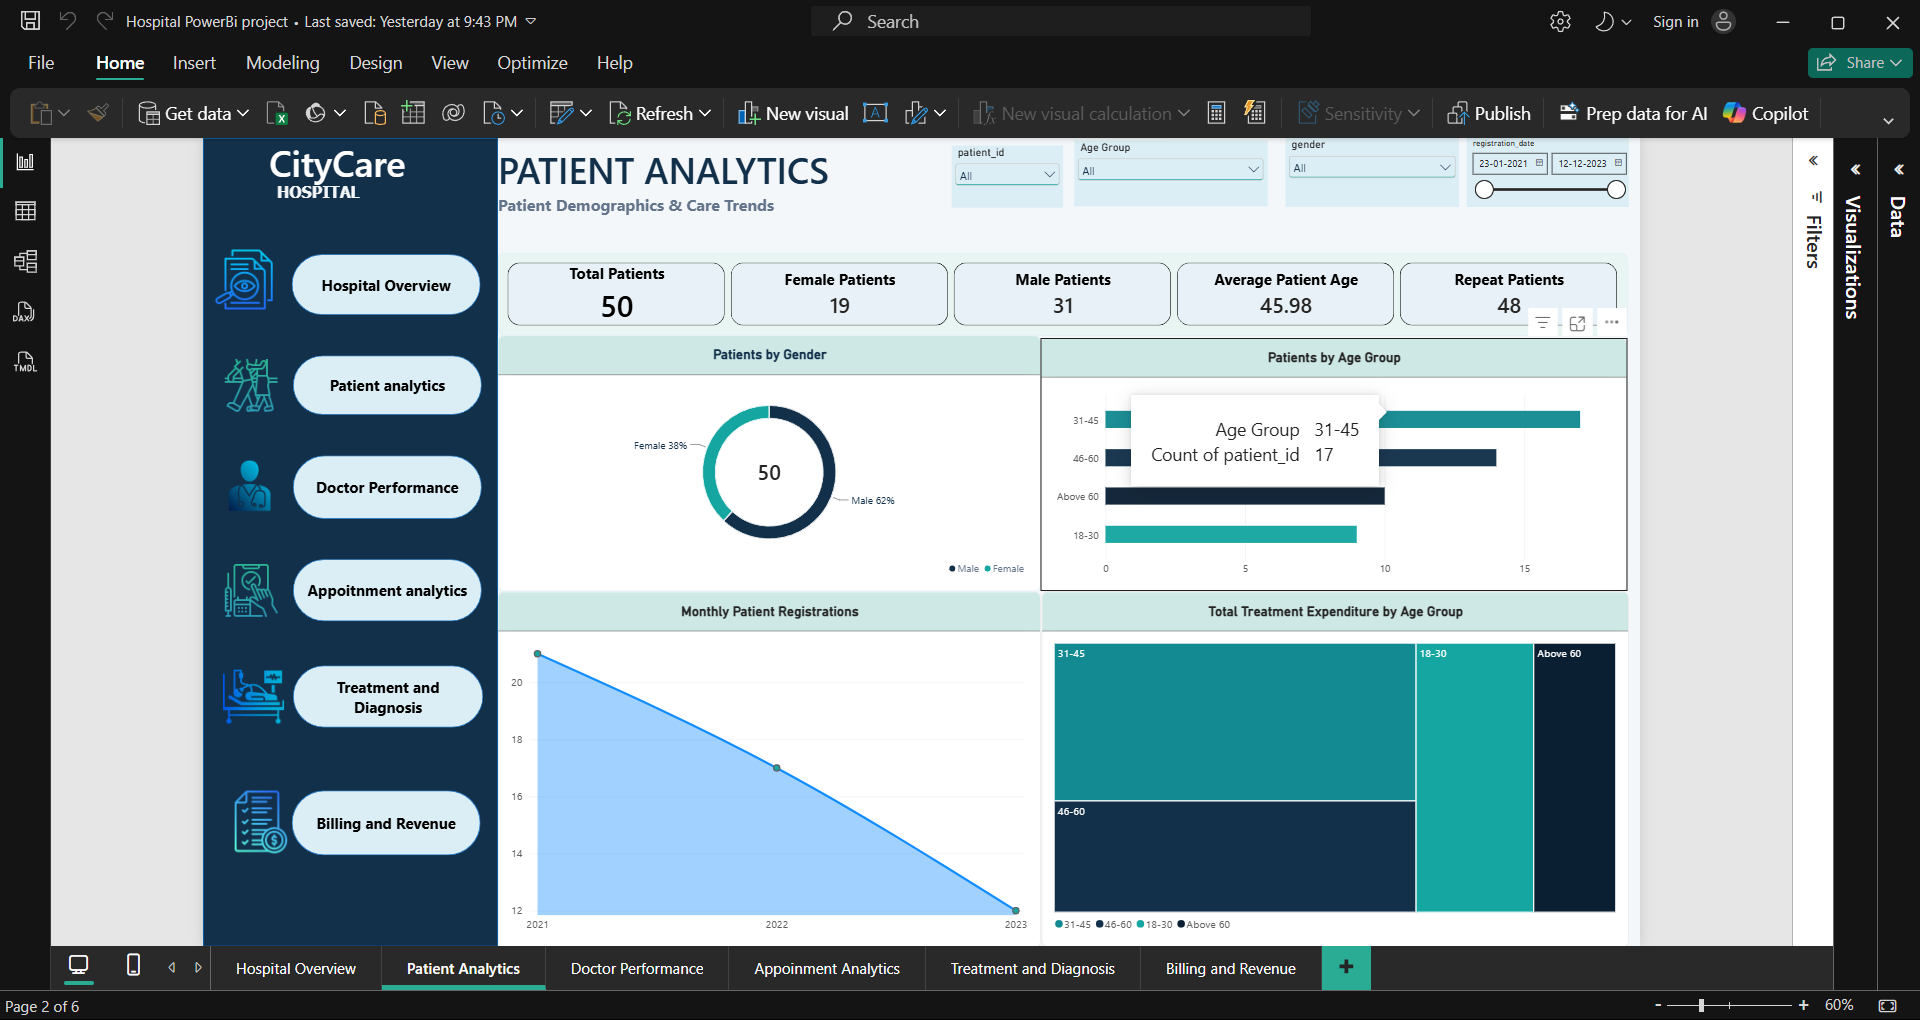

Layout of this report page (visuals, bound fields, positions):
{"tool":"powerbi","page":{"name":"Patient Analytics","canvas":[1920,1080],"ordinal":1},"visuals":[{"type":"shape","box":[0,0,394,1080],"z":0},{"type":"textbox","box":[14.3,0,328.6,91.8],"z":1000},{"type":"textbox","box":[393.9,9.2,458.3,119.6],"z":2000},{"type":"textbox","box":[79.6,59.2,263.3,32.7],"z":3000},{"type":"shape","box":[117.8,154.6,252.1,81],"z":4000},{"type":"shape","box":[119.6,290.8,252.1,79.1],"z":5000},{"type":"shape","box":[119.6,423.3,252.1,84.7],"z":6000},{"type":"shape","box":[119.6,563.2,252.1,82.8],"z":7000},{"type":"shape","box":[119.6,704.9,254,82.8],"z":8000},{"type":"shape","box":[117.8,872.4,252.1,86.5],"z":9000},{"type":"image","box":[11,149.1,86.5,81],"z":10000},{"type":"image","box":[26.5,289.8,75.5,79.6],"z":11000},{"type":"image","box":[26.5,422.4,71.4,83.7],"z":12000},{"type":"image","box":[26.5,563.3,75.5,83.7],"z":13000},{"type":"image","box":[26.5,704.1,81.6,83.7],"z":14000},{"type":"image","box":[32.7,871.4,87.8,83.7],"z":15000},{"type":"cardVisual","fields":{"Data":["patients.Total Patients","patients.Female Patients","patients.Male Patients","patients.Average Patient Age","patients.Repeat Patients"]},"box":[394.3,154.3,1508.6,110],"z":16000},{"type":"donutChart","title":"Patients by Gender","fields":{"Category":["patients.gender"],"Y":["Count(patients.patient_id)"]},"box":[394.4,263.9,725,341.7],"z":17000},{"type":"clusteredBarChart","title":"Patients by Age Group","fields":{"Category":["patients.Age Group"],"Y":["Count(patients.patient_id)"]},"box":[1119.4,266.7,783.3,338.9],"z":18000},{"type":"areaChart","title":"Monthly Patient Registrations","fields":{"Category":["patients.registration_date.Variation.Date Hierarchy.Year","patients.registration_date.Variation.Date Hierarchy.Month"],"Y":["patients.New Patients"]},"box":[394.4,605.6,725,475],"z":19000},{"type":"treemap","fields":{"Group":["patients.Age Group"],"Values":["patients.Total Treatment Expenditure"]},"box":[1120,606,784,474],"z":20000},{"type":"slicer","title":"Registration Date","fields":{"Values":["patients.registration_date"]},"box":[1688,0,216,92],"z":21000},{"type":"slicer","fields":{"Values":["patients.gender"]},"box":[1446,0,232,92],"z":22000},{"type":"slicer","fields":{"Values":["patients.Age Group"]},"box":[1164,4,258,88],"z":23000},{"type":"slicer","fields":{"Values":["patients.patient_id"]},"box":[999.4,9.2,149.1,82.8],"z":23001}]}

Visuals, with their boxes on the page's 1920x1080 design canvas (x1, y1, x2, y2). These are canvas units, not pixel positions in the 1920x1020 screenshot, which may show the page scaled, cropped or inside an application window:
shape: x1=0 y1=0 x2=394 y2=1080
textbox: x1=14 y1=0 x2=343 y2=92
textbox: x1=394 y1=9 x2=852 y2=129
textbox: x1=80 y1=59 x2=343 y2=92
shape: x1=118 y1=155 x2=370 y2=236
shape: x1=120 y1=291 x2=372 y2=370
shape: x1=120 y1=423 x2=372 y2=508
shape: x1=120 y1=563 x2=372 y2=646
shape: x1=120 y1=705 x2=374 y2=788
shape: x1=118 y1=872 x2=370 y2=959
image: x1=11 y1=149 x2=98 y2=230
image: x1=26 y1=290 x2=102 y2=369
image: x1=26 y1=422 x2=98 y2=506
image: x1=26 y1=563 x2=102 y2=647
image: x1=26 y1=704 x2=108 y2=788
image: x1=33 y1=871 x2=120 y2=955
cardVisual - patients.Total Patients x patients.Female Patients: x1=394 y1=154 x2=1903 y2=264
"Patients by Gender" donutChart: x1=394 y1=264 x2=1119 y2=606
"Patients by Age Group" clusteredBarChart: x1=1119 y1=267 x2=1903 y2=606
"Monthly Patient Registrations" areaChart: x1=394 y1=606 x2=1119 y2=1081
treemap - patients.Age Group x patients.Total Treatment Expenditure: x1=1120 y1=606 x2=1904 y2=1080
"Registration Date" slicer: x1=1688 y1=0 x2=1904 y2=92
slicer - patients.gender: x1=1446 y1=0 x2=1678 y2=92
slicer - patients.Age Group: x1=1164 y1=4 x2=1422 y2=92
slicer - patients.patient_id: x1=999 y1=9 x2=1148 y2=92
